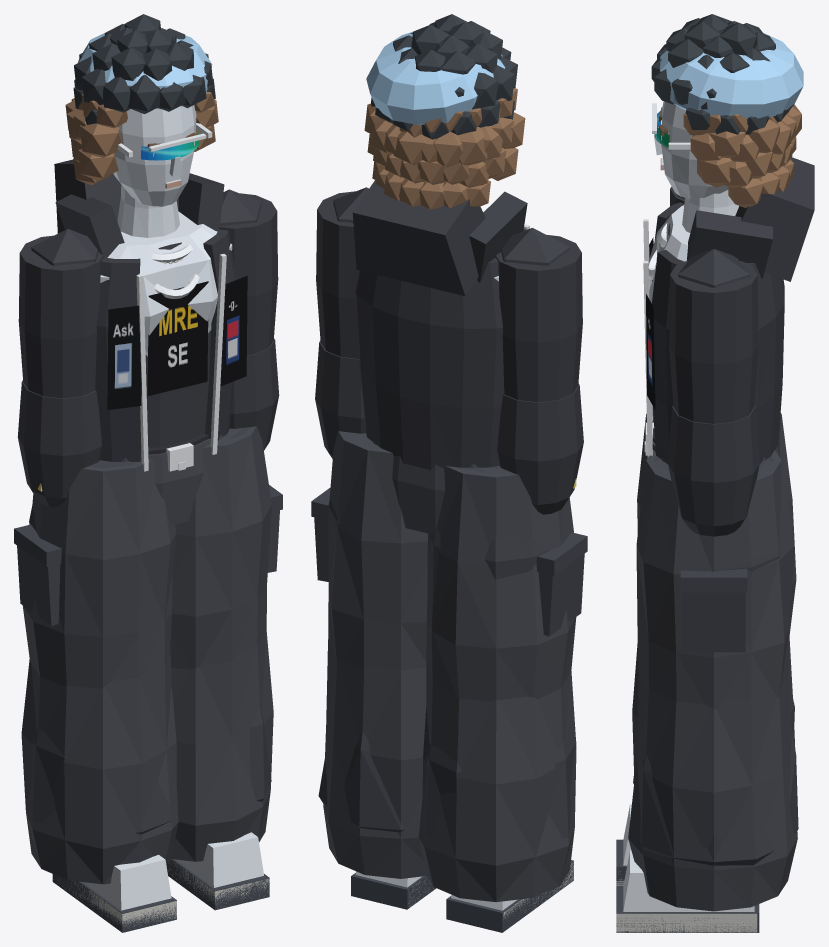
The model's file is fludd_artist.glb.
3 renders of one model, left to right at view 1: azimuth 30°, elevation 25°; view 2: azimuth 150°, elevation 25°; view 3: azimuth 270°, elevation 25°, orthographic. The views are drawn at different scales.
Parts seen in each view (by area): view 1: bn_thigh_L, bn_calf_L, bn_thigh_R, bn_calf_R, bn_hoodie, bn_uarm_L, nm_afro, nm_torso, bn_farm_L, bn_uarm_R, nm_head_mesh, bn_tee_print (+22 smaller); view 2: bn_hoodie, bn_calf_L, bn_thigh_L, bn_thigh_R, bn_calf_R, bn_uarm_L, bn_hair_curls, bn_farm_L, nm_afro, bn_uarm_R, nm_thigh_L, bn_beret (+7 smaller); view 3: bn_calf_R, bn_thigh_R, bn_hoodie, bn_uarm_R, bn_farm_R, bn_hair_curls, bn_beret, nm_afro, nm_thigh_R, nm_calf_R, bn_sole_R, nm_head_mesh (+7 smaller).
Part boxes in pixels (<box>): bn_thigh_L: <box>22,460,176,688</box>; bn_calf_L: <box>21,657,178,884</box>; bn_thigh_R: <box>170,426,271,669</box>; bn_calf_R: <box>170,631,273,861</box>; bn_hoodie: <box>54,159,237,461</box>; bn_uarm_L: <box>18,229,103,398</box>; nm_afro: <box>73,14,215,124</box>; nm_torso: <box>100,184,232,356</box>; bn_farm_L: <box>17,380,102,507</box>; bn_uarm_R: <box>219,189,278,354</box>; nm_head_mesh: <box>113,105,196,206</box>; bn_tee_print: <box>147,281,208,395</box>; bn_hoodie: <box>352,179,527,469</box>; bn_calf_L: <box>418,670,576,902</box>; bn_thigh_L: <box>426,466,576,701</box>; bn_thigh_R: <box>328,430,427,670</box>; bn_calf_R: <box>323,639,426,878</box>; bn_uarm_L: <box>495,228,582,402</box>; bn_hair_curls: <box>364,88,525,209</box>; bn_farm_L: <box>497,383,583,514</box>; nm_afro: <box>371,14,517,139</box>; bn_uarm_R: <box>316,187,368,358</box>; nm_thigh_L: <box>429,466,587,636</box>; bn_beret: <box>366,31,505,125</box>; bn_calf_R: <box>628,676,797,911</box>; bn_thigh_R: <box>636,449,794,709</box>; bn_hoodie: <box>652,157,814,463</box>; bn_uarm_R: <box>669,249,758,423</box>; bn_farm_R: <box>668,405,759,536</box>; bn_hair_curls: <box>683,104,801,207</box>; bn_beret: <box>660,33,803,118</box>; nm_afro: <box>651,14,794,134</box>; nm_thigh_R: <box>653,456,789,652</box>; nm_calf_R: <box>640,736,798,865</box>; bn_sole_R: <box>616,913,757,932</box>; nm_head_mesh: <box>654,101,728,199</box>.
Bounding box in the file's own units: 0.566 × 1.86 × 0.3801.
24 materials, 3 textured.
